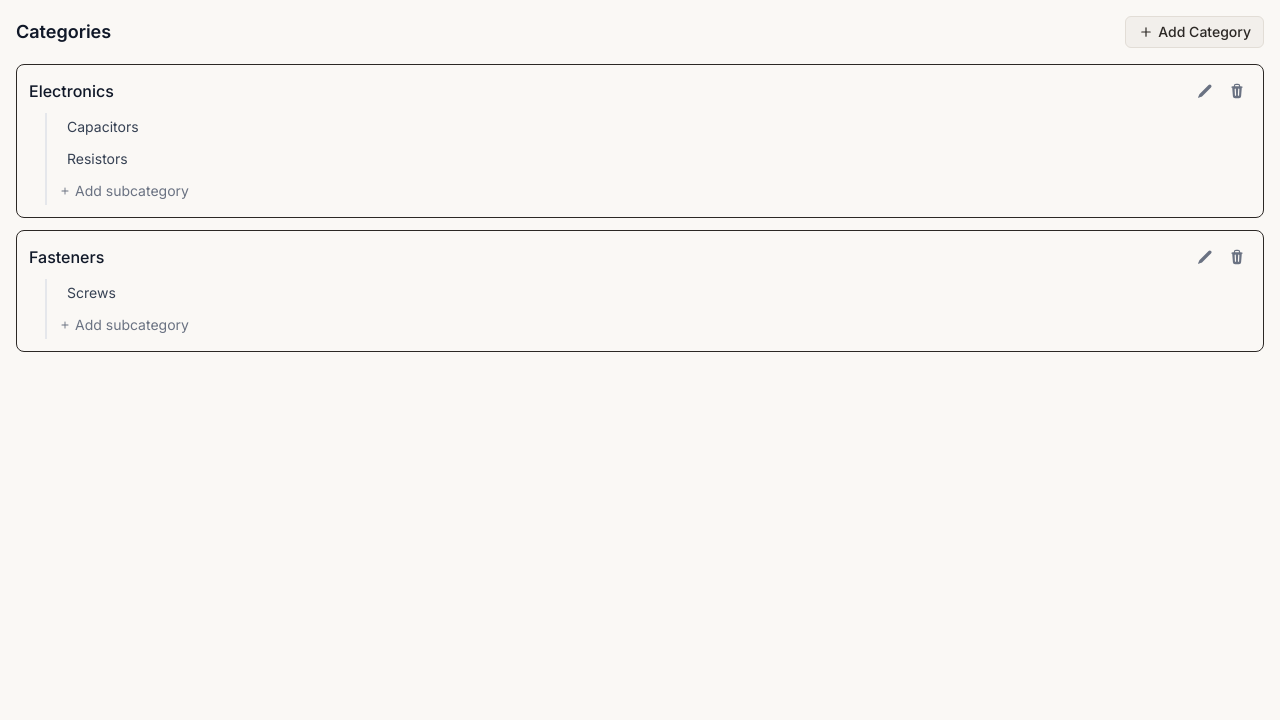
Test: CategoryManagement › delete category › should show confirmation before deleting category with subcategories
This screenshot has width=1280, height=720.
Step 1. Click the button named "Delete Electronics" → click(1237, 91), box [1223,77,1251,105]
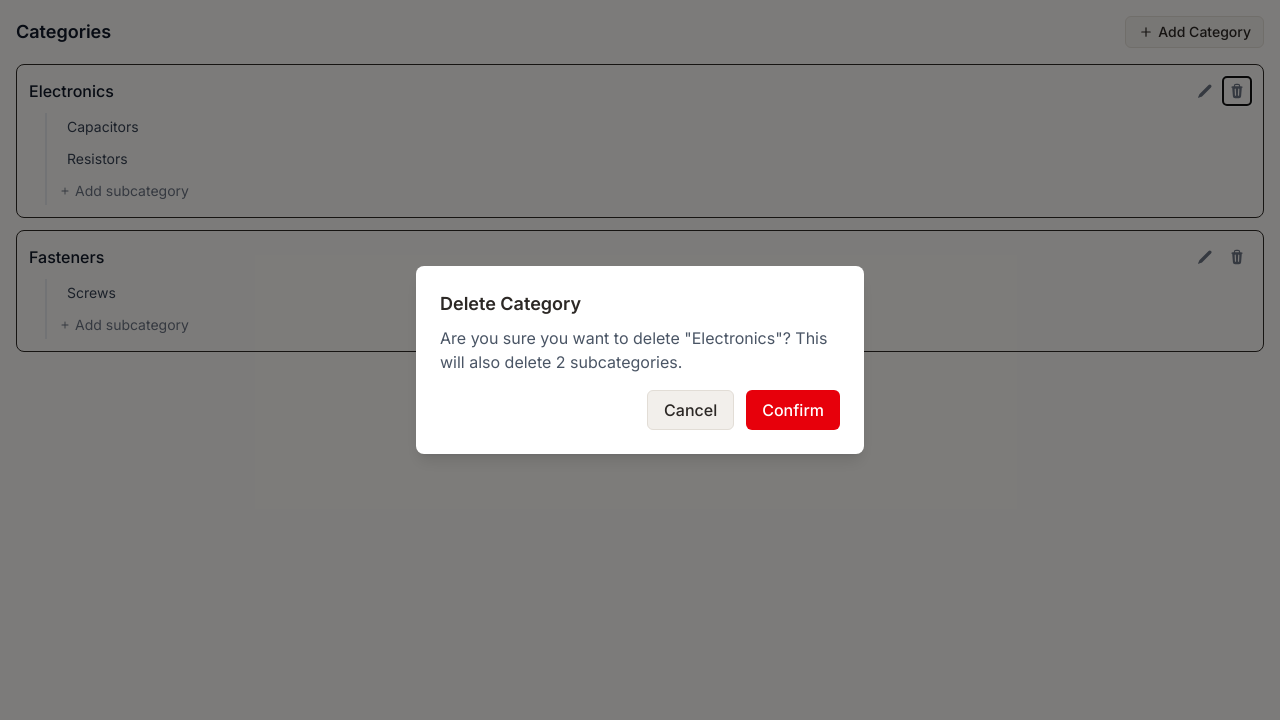
expect the text "2 subcategories" is shown: met, box [440,328,827,372]
